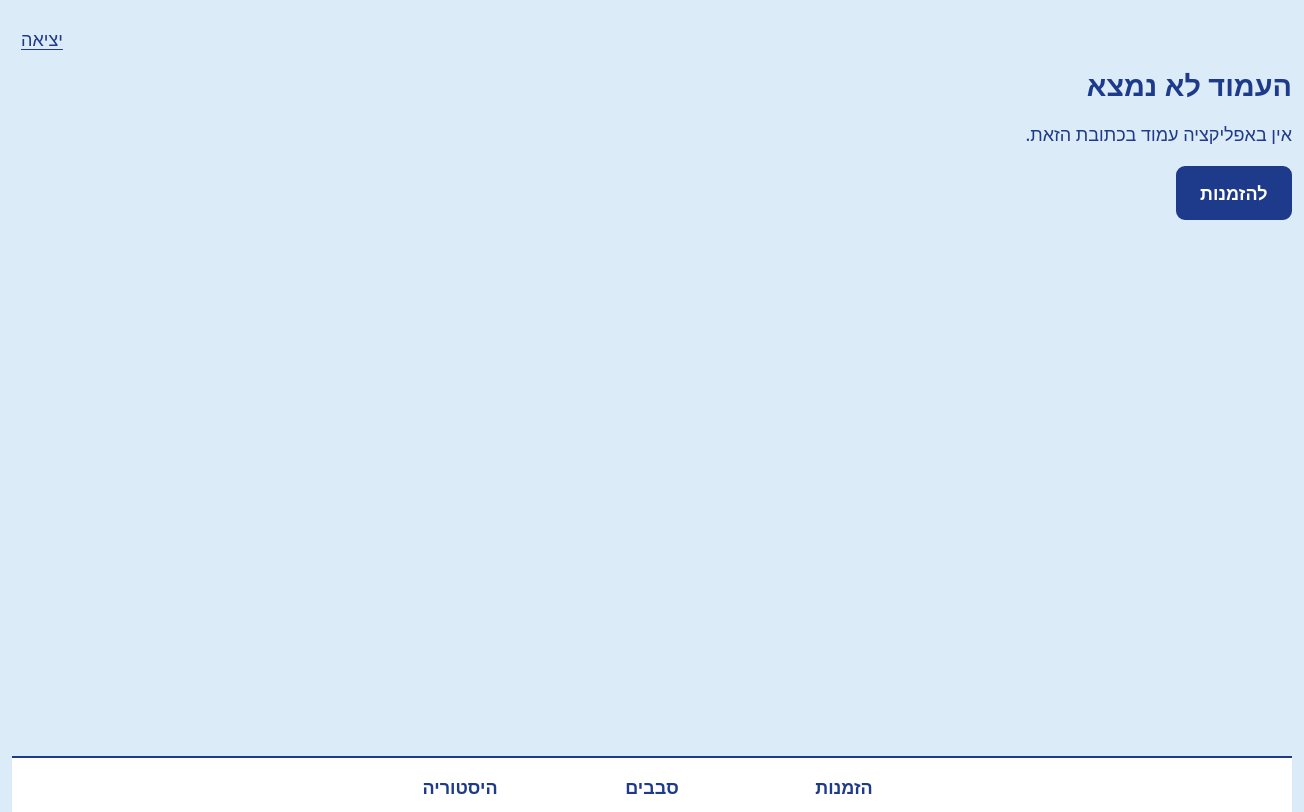
CollectorApp › logged in › shows "page not found" inside the app for an unknown path, with a way to the orders
Check: the heading "העמוד לא נמצא" is shown, box [1087,65,1292,104]
Click the link "להזמנות": (1234, 193) [1176,166,1292,220]
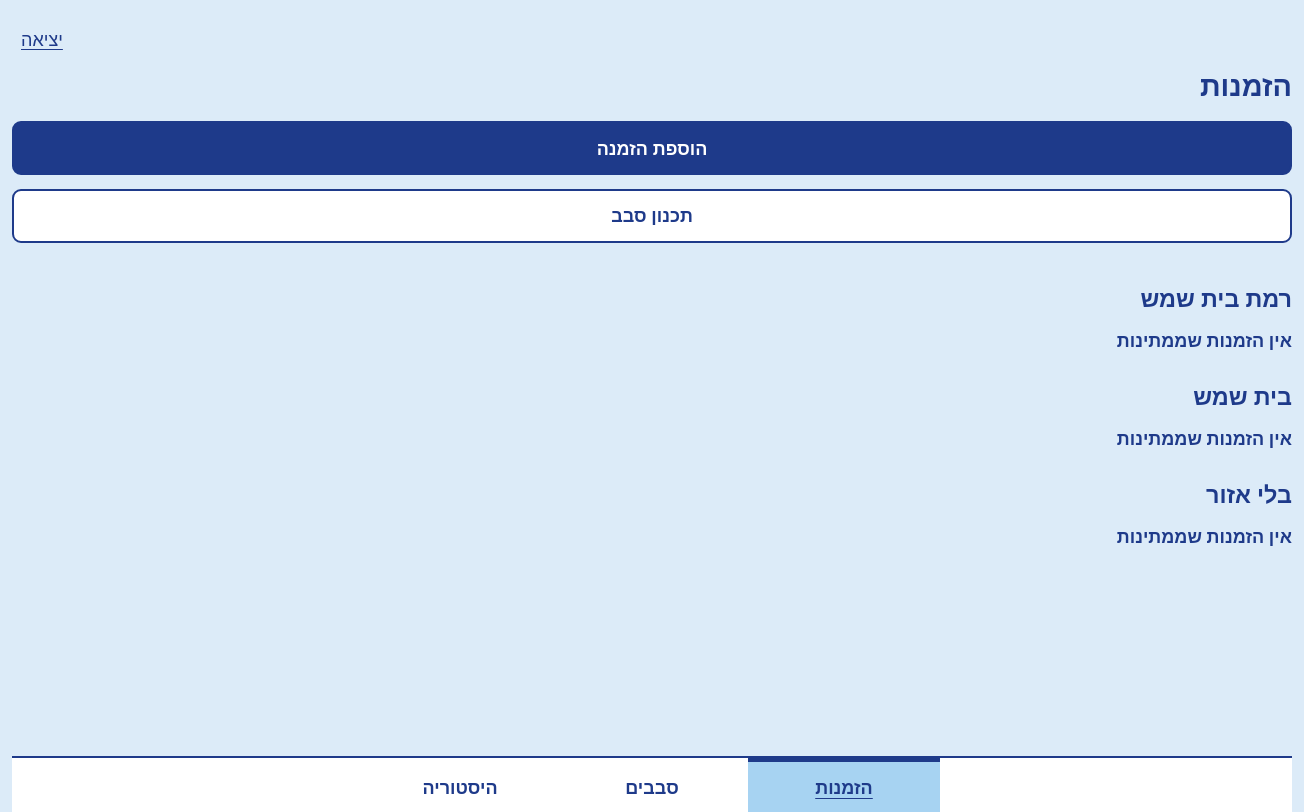
Check: the heading "הזמנות" is shown, box [1200,65,1292,104]
